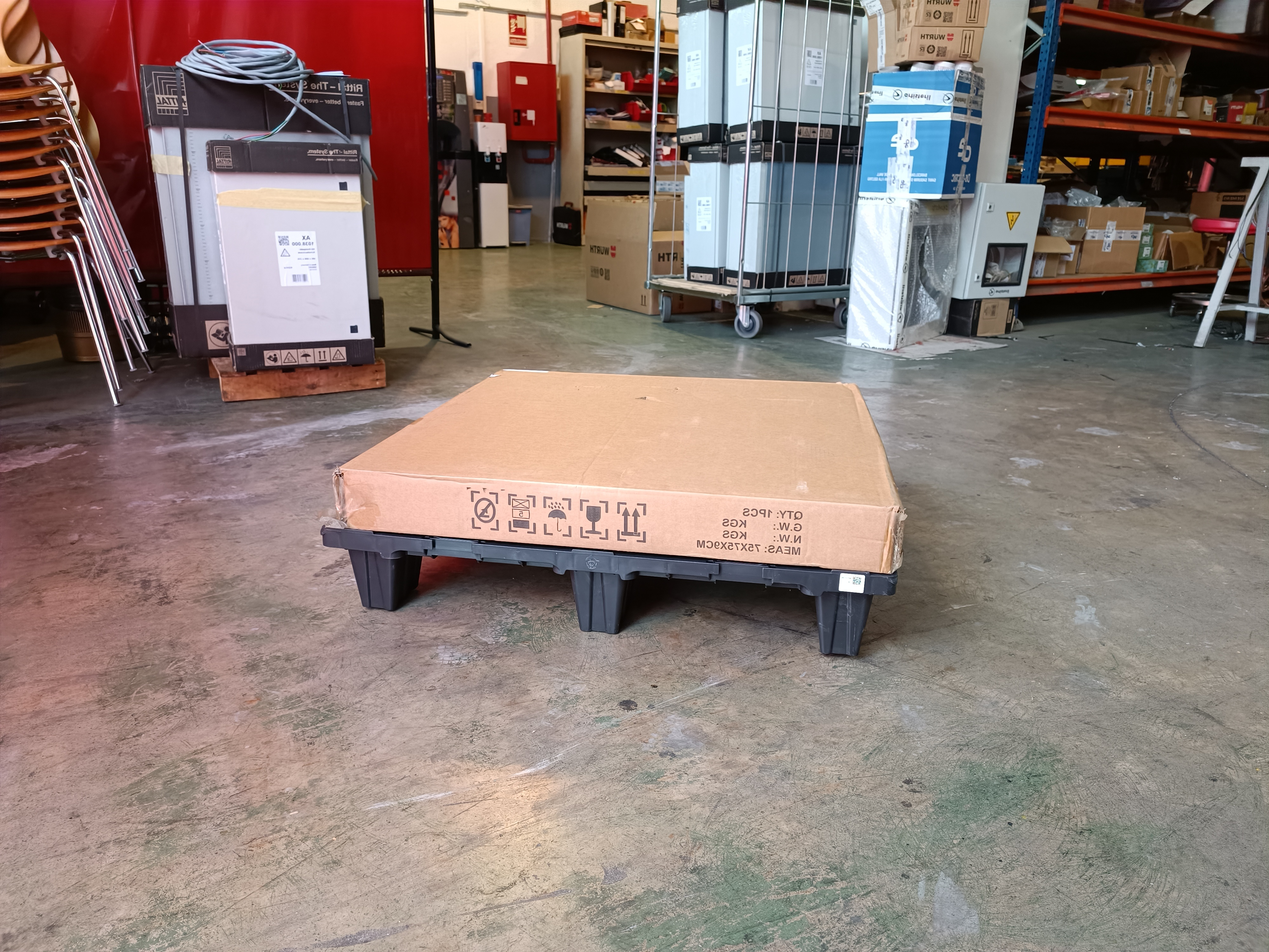block: (571, 568, 629, 637), (821, 591, 876, 662), (347, 553, 404, 614)
front: (316, 530, 900, 669)
hole pallet: (621, 581, 824, 657), (406, 556, 582, 627)
